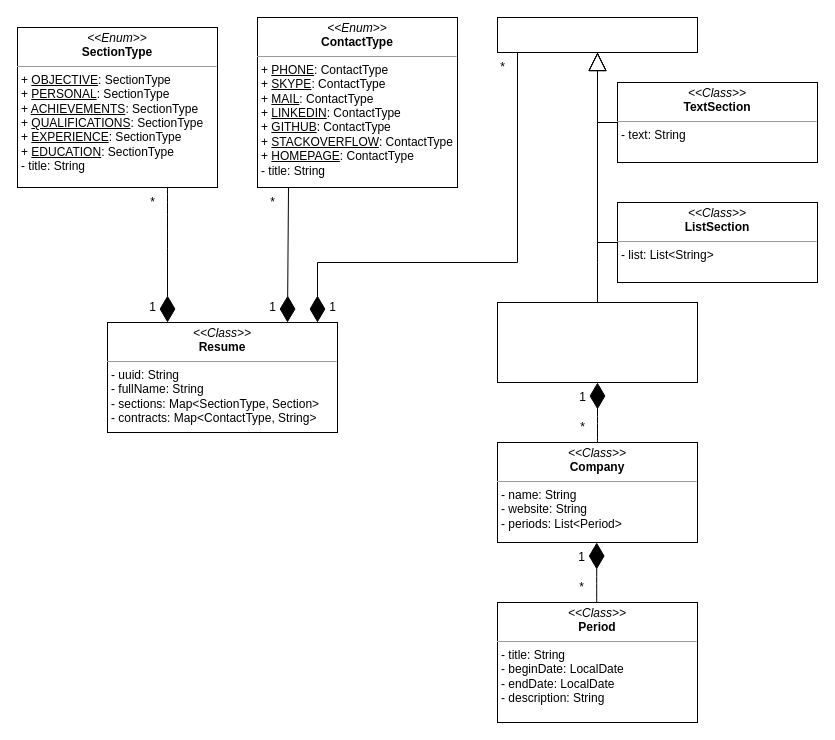
Image size: 835x740. Some labels were removed from this diagram. Here are the shapes that lost their labels. From the top down, the centre of each, then its label:
the point at 597,34: <<Abstract Class>> Section
the point at 597,342: <<Class>> CompanyListSection - companies: List<Company>
